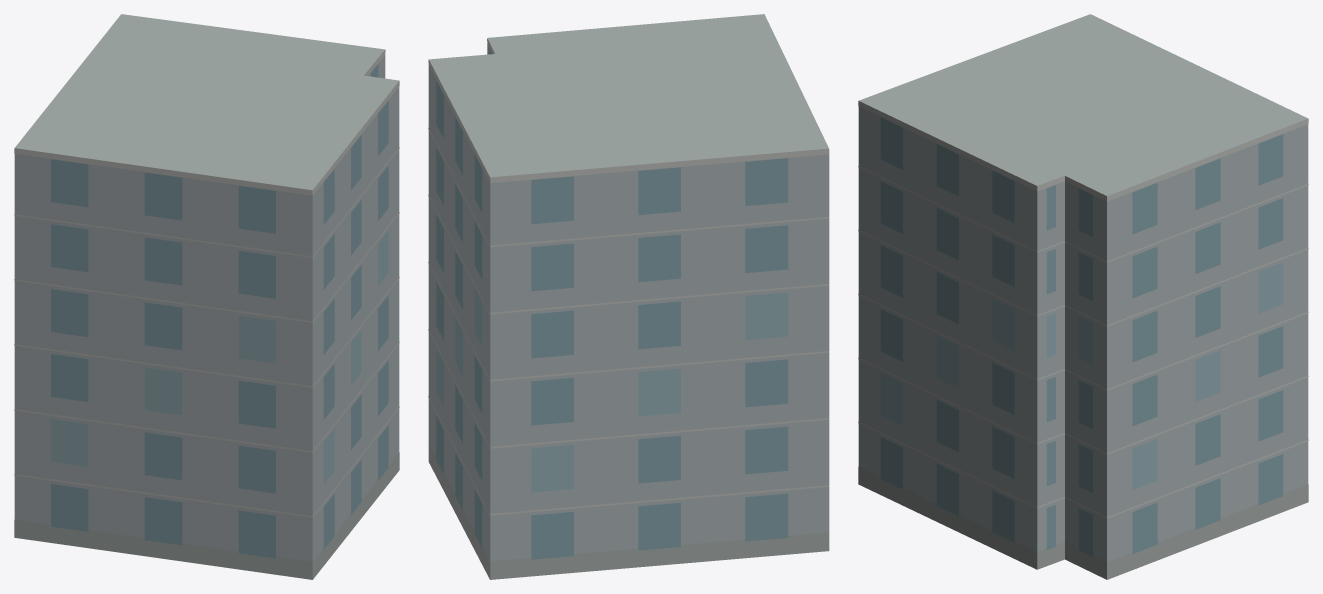
The model's file is survey-upis-32890888.glb.
3 renders of one model, left to right at view 1: azimuth 30°, elevation 25°; view 2: azimuth 150°, elevation 25°; view 3: azimuth 270°, elevation 25°, orthographic. The views are drawn at different scales.
Visible parts, largest first — view 1: survey-upis-32890888.tmp; view 2: survey-upis-32890888.tmp; view 3: survey-upis-32890888.tmp.
Part boxes in pixels (x1,y1,x2,y2): survey-upis-32890888.tmp: (14, 14, 399, 579); survey-upis-32890888.tmp: (428, 14, 829, 579); survey-upis-32890888.tmp: (858, 14, 1308, 579).
Bounding box in the file's own units: 17.54 × 17.2 × 18.3.
